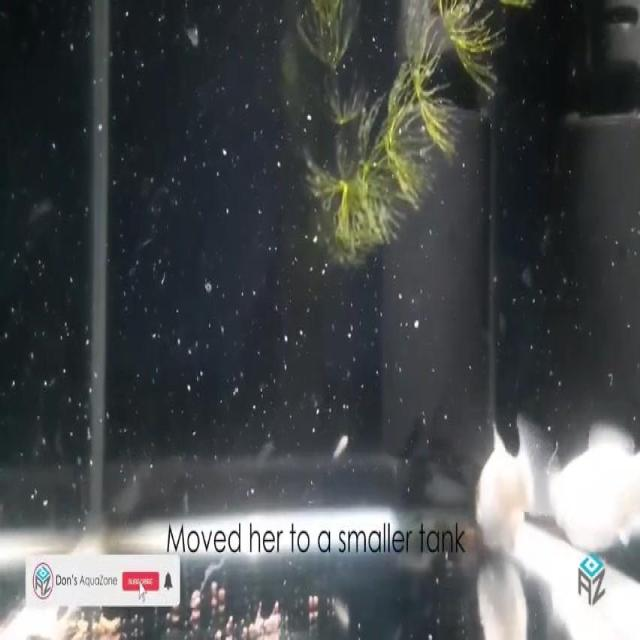PlatyFish: (459, 406, 553, 570)
